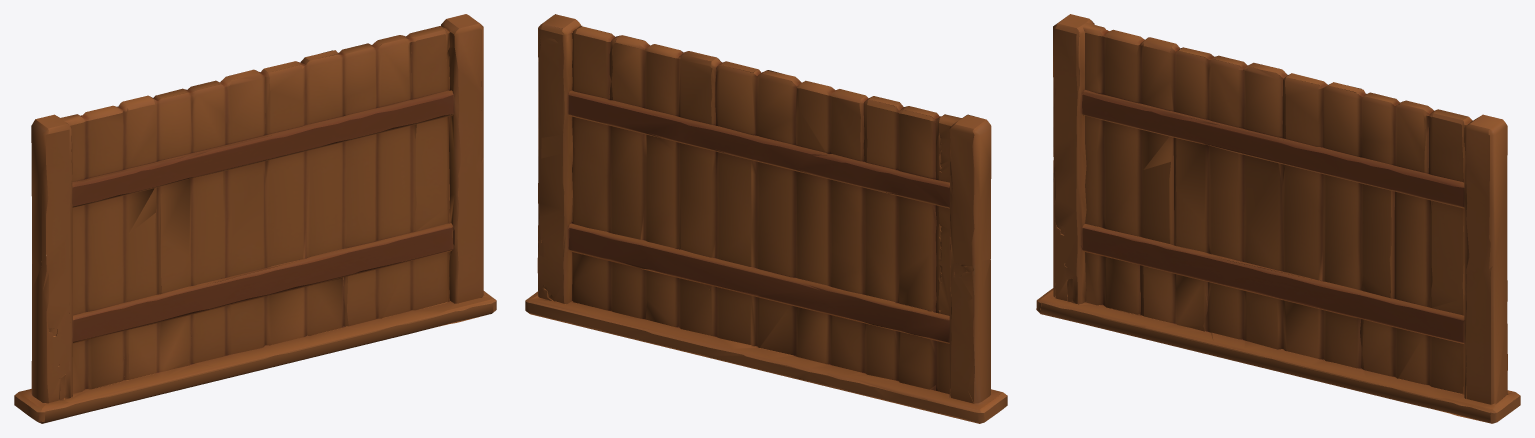
The model's file is PROP_C1_WALL_game.glb.
The picture shows the model from 3 angles, left to right: view 1: azimuth 30°, elevation 25°; view 2: azimuth 150°, elevation 25°; view 3: azimuth 330°, elevation 25°; orthographic projection.
Visible parts, largest first — view 1: PROP_C1_WALL; view 2: PROP_C1_WALL; view 3: PROP_C1_WALL.
Boxes of the visible parts, x1,y1,x2,y2 form: PROP_C1_WALL: (14,14,496,423); PROP_C1_WALL: (525,14,1007,423); PROP_C1_WALL: (1036,14,1520,423).
Size of the model in its own units: 5 by 3 by 0.5024.
1 material, 1 textured.
